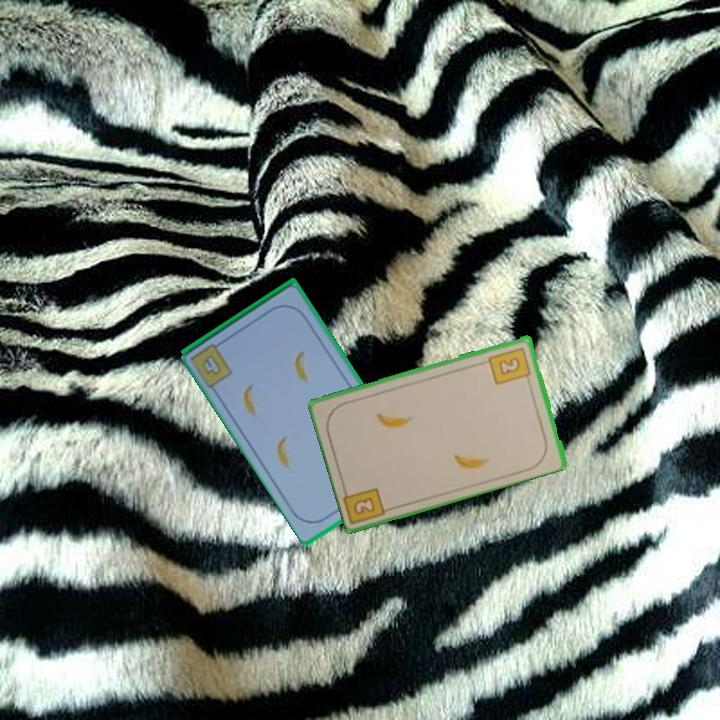2b: (486, 343, 534, 387), (350, 493, 378, 518)
4b: (199, 351, 225, 379)
